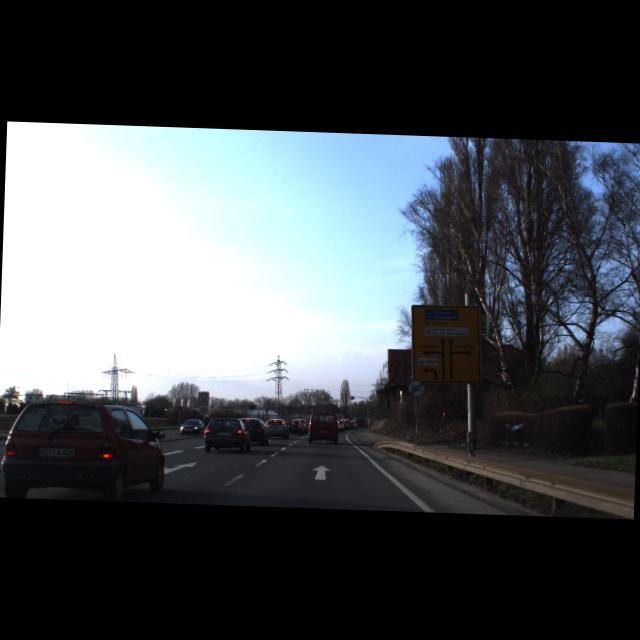other: (406, 380, 424, 398)
